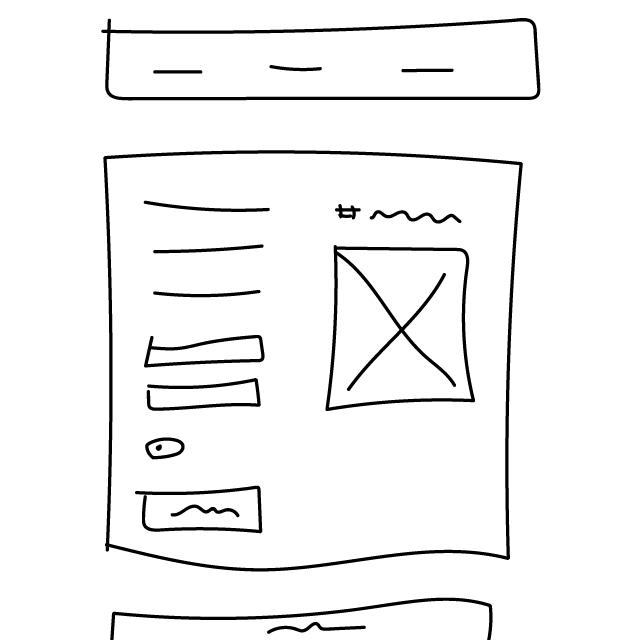button: (134, 480, 268, 539)
checkbox: (143, 437, 190, 463)
container: (96, 145, 525, 576)
footer: (101, 595, 506, 640)
frame: (322, 244, 483, 417)
heading: (334, 196, 465, 234)
input: (137, 376, 271, 413), (139, 334, 271, 371)
nav: (96, 15, 544, 109)
text: (138, 188, 278, 313)
